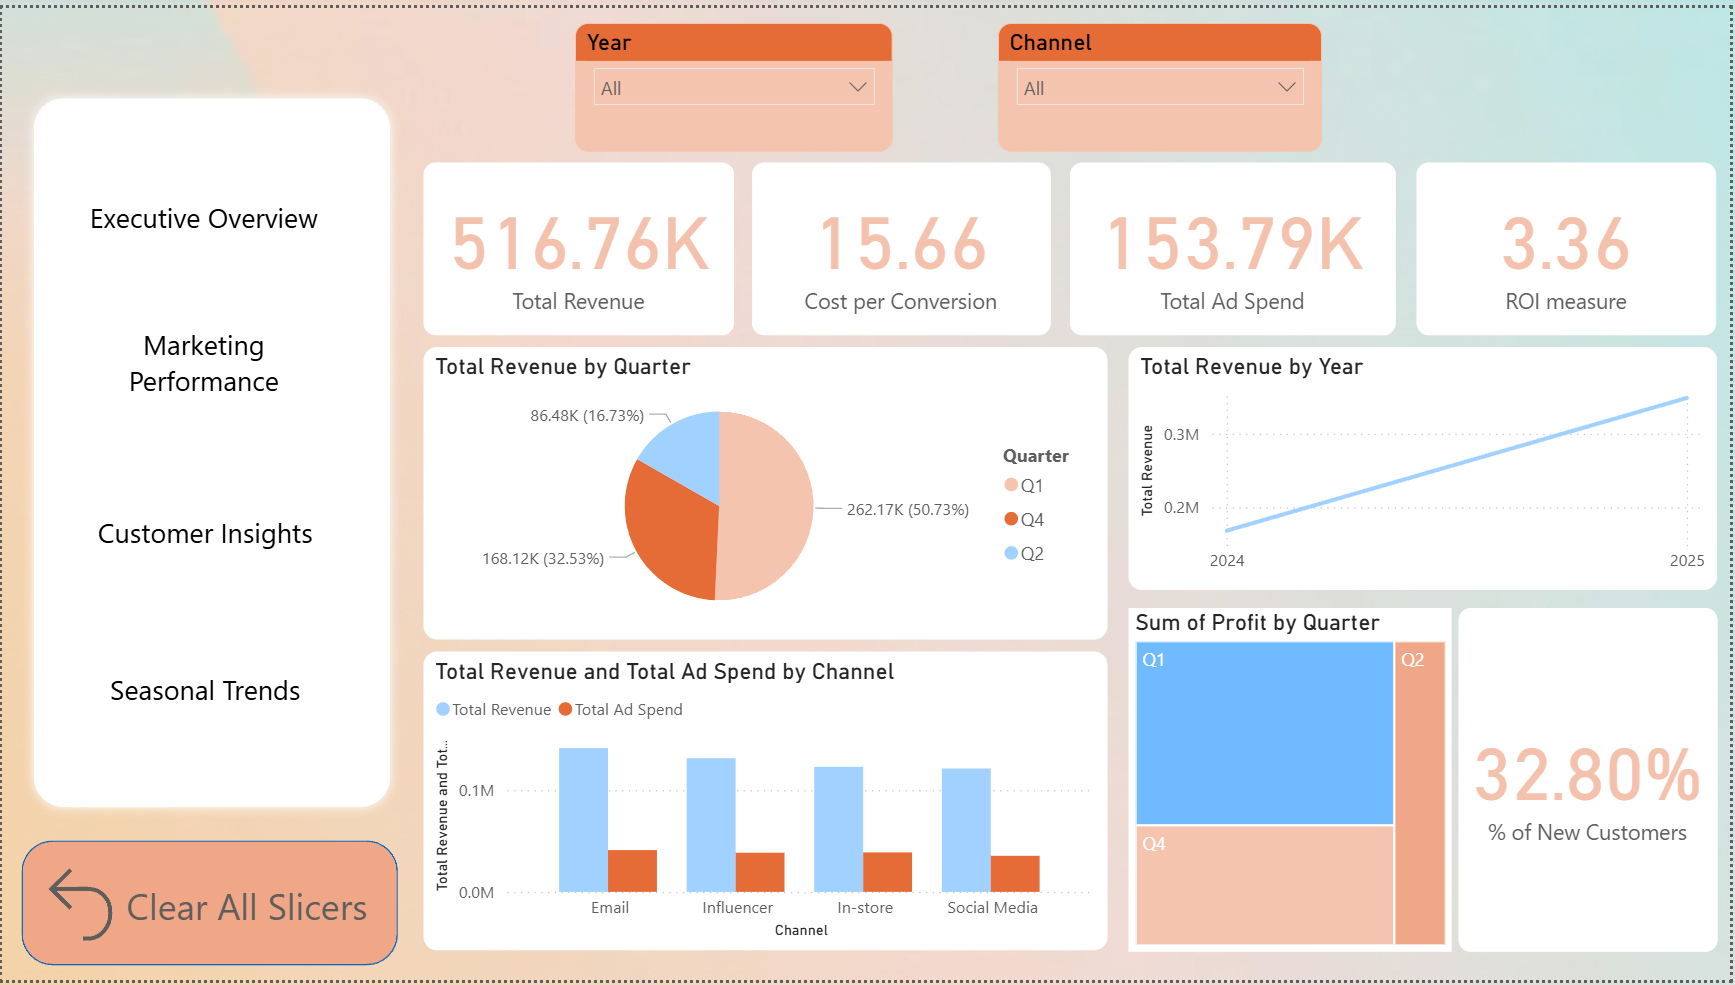

This screenshot's page, from the dashboard's own definition file:
{"tool":"powerbi","page":{"name":"Page 2","canvas":[1280,720],"ordinal":1},"visuals":[{"type":"shape","box":[0,0,203,720],"z":0},{"type":"card","fields":{"Values":["Sheet1.Total Revenue"]},"box":[466.7,15.6,248.9,135.6],"z":1000},{"type":"card","fields":{"Values":["Sheet1.Total Profit"]},"box":[735.6,15.6,237.8,135.6],"z":2000},{"type":"card","fields":{"Values":["Sheet1.Total Orders"]},"box":[224.4,10,224.4,141.1],"z":3000},{"type":"card","fields":{"Values":["Sheet1.Average Profit Margin"]},"box":[1000,15.6,257.8,135.6],"z":4000},{"type":"lineChart","fields":{"Y":["Sheet1.Total Revenue"],"Category":["Sheet1.Date.Variation.Date Hierarchy.Year","Sheet1.Date.Variation.Date Hierarchy.Quarter","Sheet1.Date.Variation.Date Hierarchy.Month","Sheet1.Date.Variation.Date Hierarchy.Day"]},"box":[224.4,172.2,623.3,250],"z":5000},{"type":"barChart","fields":{"Y":["Sheet1.Total Revenue"],"Category":["Sheet1.Weekday"]},"box":[862.4,175.8,395.2,250.4],"z":6000},{"type":"lineChart","title":"Total Sales Over Time ","fields":{"Category":["Sheet1.Date.Variation.Date Hierarchy.Year","Sheet1.Date.Variation.Date Hierarchy.Quarter","Sheet1.Date.Variation.Date Hierarchy.Month","Sheet1.Date.Variation.Date Hierarchy.Day"],"Y":["Sum(Sheet1.Revenue)"]},"box":[224.4,436.7,490,254.4],"z":7000},{"type":"columnChart","title":"Profite by Prodouct Category","fields":{"Category":["Sheet1.Service_Category"],"Y":["Sheet1.Total Profit"]},"box":[725.6,436.7,532.2,254.4],"z":8000},{"type":"slicer","fields":{"Values":["Sheet1.Region"]},"box":[23.3,301.1,153.3,67.8],"z":9000,"group":"g3"},{"type":"group","id":"g1","title":"Group 1","box":[23.3,301.1,154.4,297.8],"z":10000},{"type":"slicer","fields":{"Values":["Sheet1.Channel"]},"box":[23.3,376.7,153.3,71.1],"z":10000,"group":"g3"},{"type":"group","id":"g2","title":"Group 3","box":[11,15.6,165.7,257.4],"z":11000},{"type":"slicer","fields":{"Values":["Sheet1.Customer_Type"]},"box":[24.4,455.5,153.3,67.8],"z":11000,"group":"g3"},{"type":"actionButton","box":[12.2,625.1,177.6,66.4],"z":11500},{"type":"slicer","fields":{"Values":["Sheet1.Service_Category"]},"box":[23.3,530,153.3,68.9],"z":12000,"group":"g3"},{"type":"actionButton","box":[12.2,15.6,164.4,57.8],"z":14000,"group":"g2"},{"type":"actionButton","box":[21.1,73.4,146.7,50],"z":15000,"group":"g2"},{"type":"actionButton","box":[30,123.4,127.8,40],"z":16000,"group":"g2"},{"type":"actionButton","box":[21.1,180,146.7,40],"z":17000,"group":"g2"},{"type":"actionButton","box":[11,233,165,40],"z":18000,"group":"g2"},{"type":"group","id":"g3","title":"Group 2","box":[23.3,301.1,154.4,297.8],"z":18002,"group":"g1"}]}

Visuals, with their boxes in screenshot pixels (x1, y1, x2, y2), scaled from the page's 1280x720 canvas onto the 1735x985 screenshot:
shape: pyautogui.locateOnScreen(0, 0, 275, 984)
card - Sheet1.Total Revenue: pyautogui.locateOnScreen(633, 21, 970, 207)
card - Sheet1.Total Profit: pyautogui.locateOnScreen(997, 21, 1319, 207)
card - Sheet1.Total Orders: pyautogui.locateOnScreen(304, 14, 608, 207)
card - Sheet1.Average Profit Margin: pyautogui.locateOnScreen(1355, 21, 1705, 207)
lineChart - Sheet1.Total Revenue x Sheet1.Date.Variation.Date Hierarchy.Year: pyautogui.locateOnScreen(304, 236, 1149, 578)
barChart - Sheet1.Total Revenue x Sheet1.Weekday: pyautogui.locateOnScreen(1169, 241, 1705, 583)
"Total Sales Over Time " lineChart: pyautogui.locateOnScreen(304, 597, 968, 945)
"Profite by Prodouct Category" columnChart: pyautogui.locateOnScreen(984, 597, 1705, 945)
slicer - Sheet1.Region: pyautogui.locateOnScreen(32, 412, 239, 505)
"Group 1" group: pyautogui.locateOnScreen(32, 412, 241, 819)
slicer - Sheet1.Channel: pyautogui.locateOnScreen(32, 515, 239, 613)
"Group 3" group: pyautogui.locateOnScreen(15, 21, 240, 373)
slicer - Sheet1.Customer_Type: pyautogui.locateOnScreen(33, 623, 241, 716)
actionButton: pyautogui.locateOnScreen(17, 855, 257, 946)
slicer - Sheet1.Service_Category: pyautogui.locateOnScreen(32, 725, 239, 819)
actionButton: pyautogui.locateOnScreen(17, 21, 239, 100)
actionButton: pyautogui.locateOnScreen(29, 100, 227, 169)
actionButton: pyautogui.locateOnScreen(41, 169, 214, 224)
actionButton: pyautogui.locateOnScreen(29, 246, 227, 301)
actionButton: pyautogui.locateOnScreen(15, 319, 239, 373)
"Group 2" group: pyautogui.locateOnScreen(32, 412, 241, 819)
